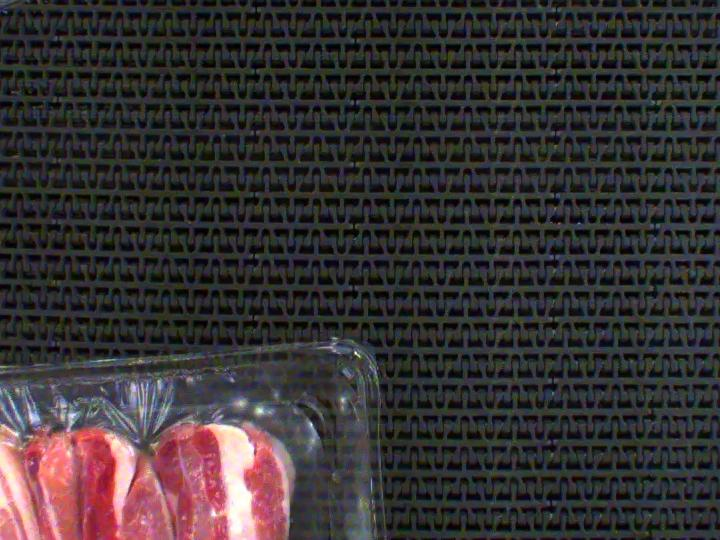unsealed: (0, 368, 361, 534)
